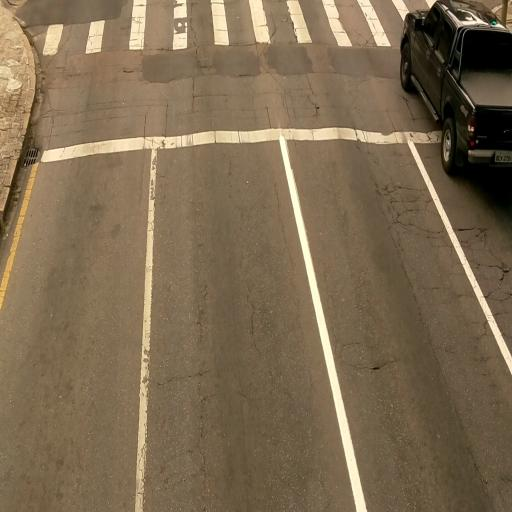car: (395, 0, 510, 177)
